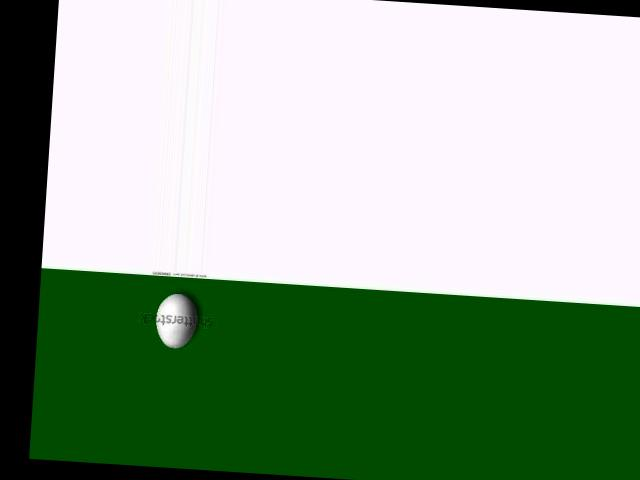egg: (154, 292, 198, 349)
